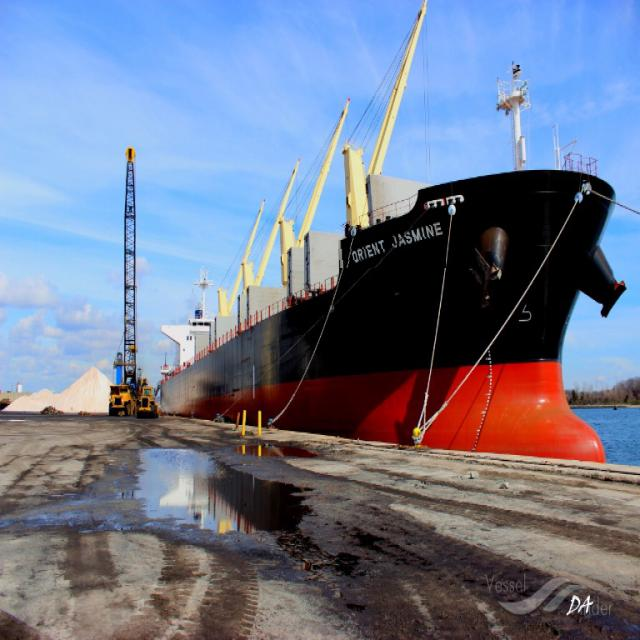OCR: (336, 220, 446, 268)
